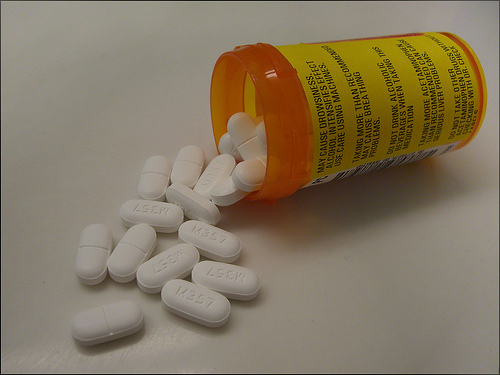pill bottle: (209, 30, 488, 201)
